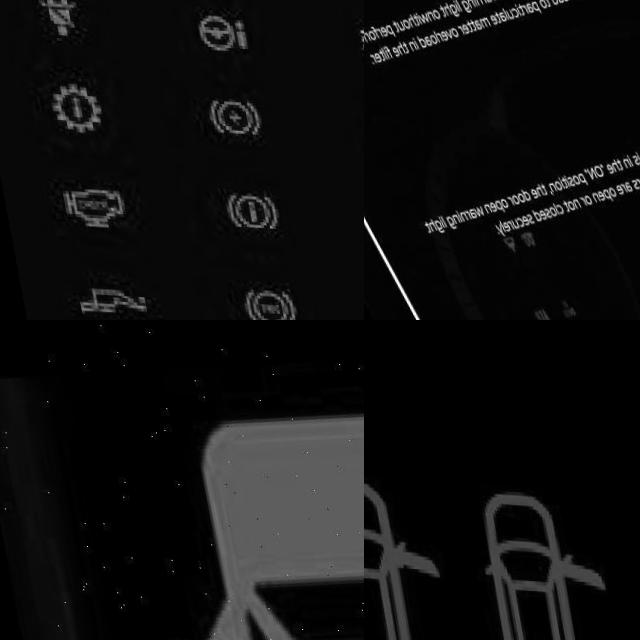Electronic Power Steering: (186, 9, 248, 55)
Seat Belt: (31, 0, 68, 34)
